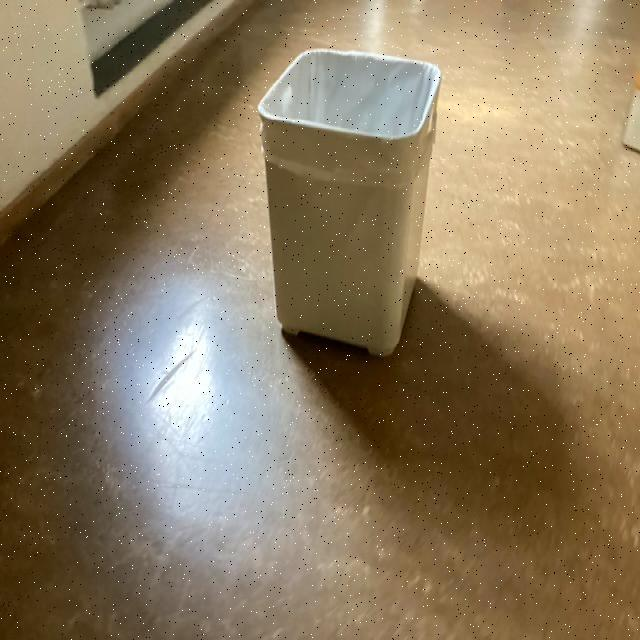garbage container: (237, 27, 454, 386)
